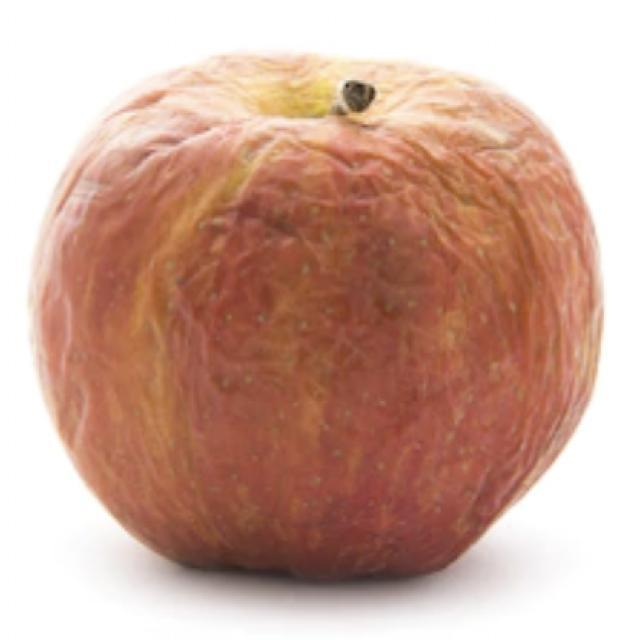Rotten: (32, 41, 605, 586)
